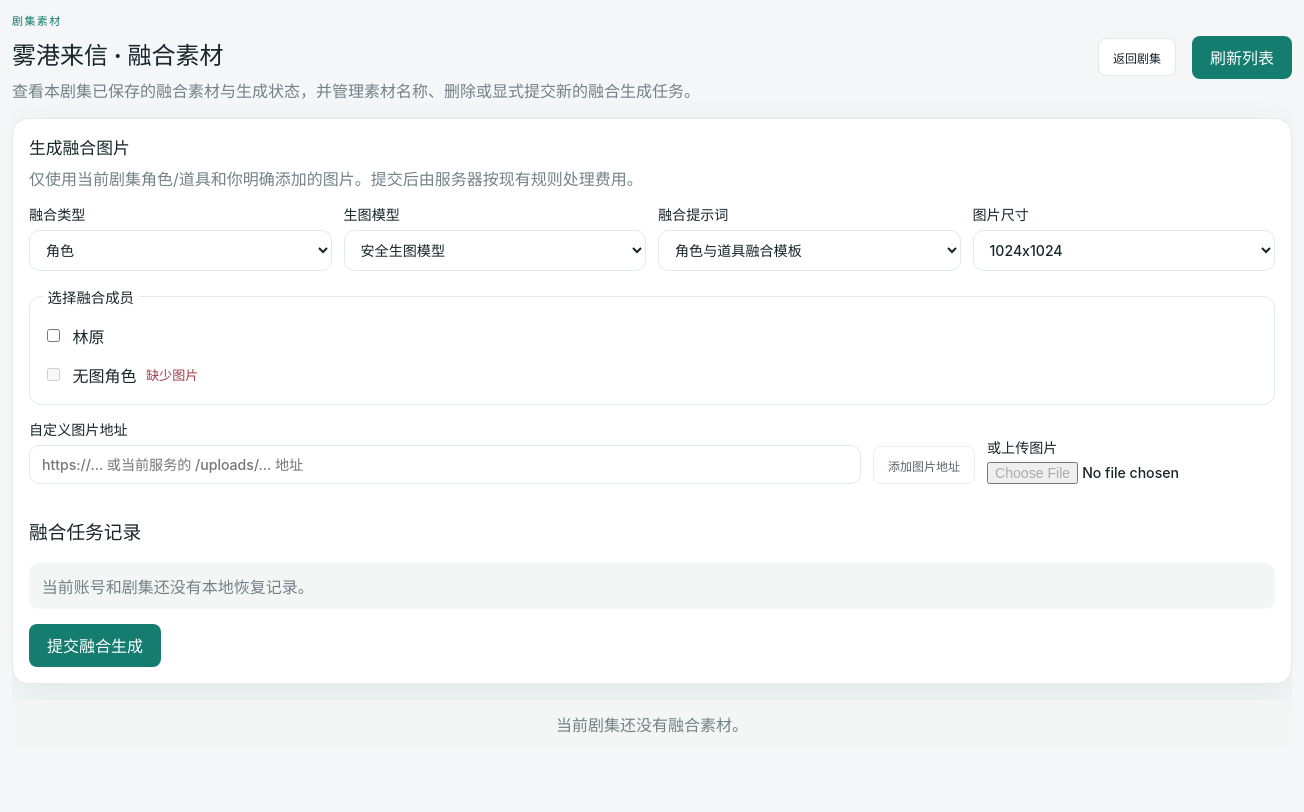
FusedAssetsPage › preserves the selected draft and does not submit when localStorage becomes unavailable after mounting
Click the checkbox labelled "林原". click: (53, 336)
box: [47,329,60,342]
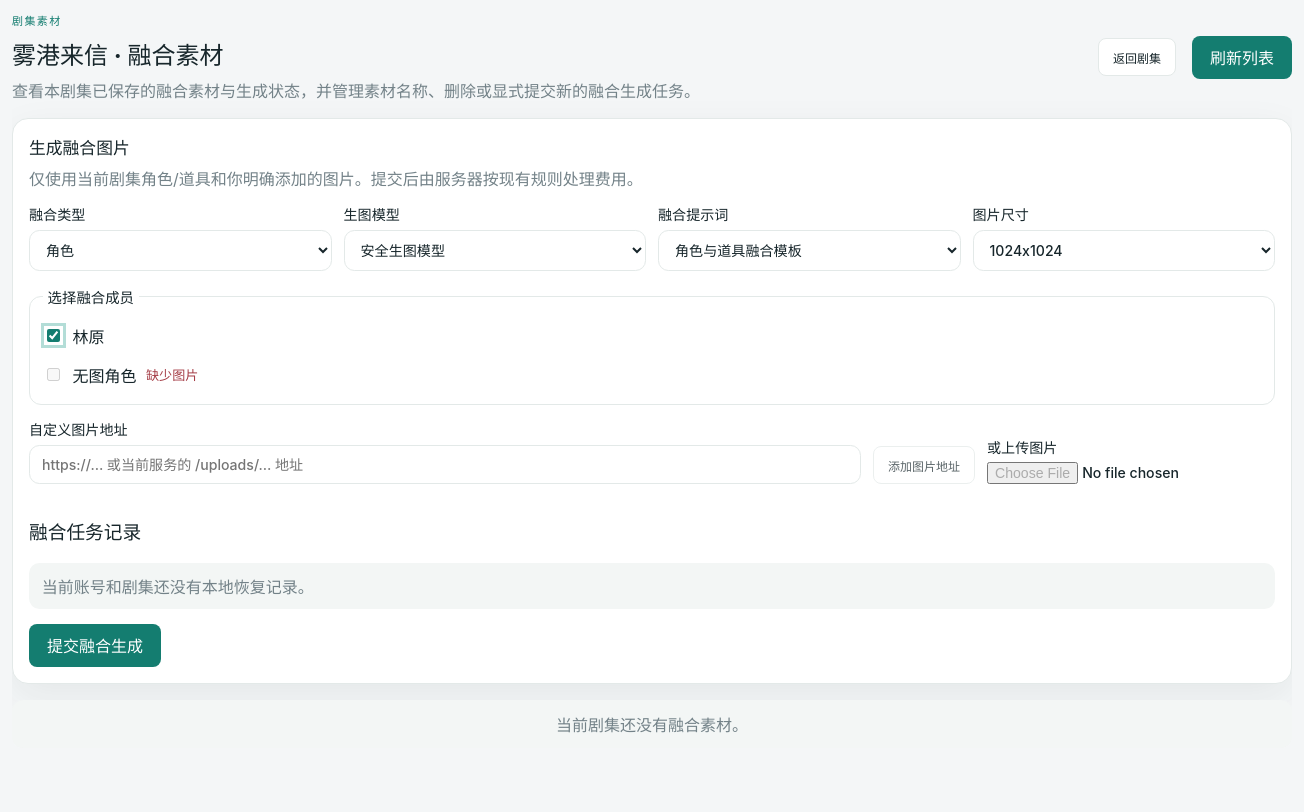
Click the button "提交融合生成". click: (95, 645)
box: [29,624,161,667]
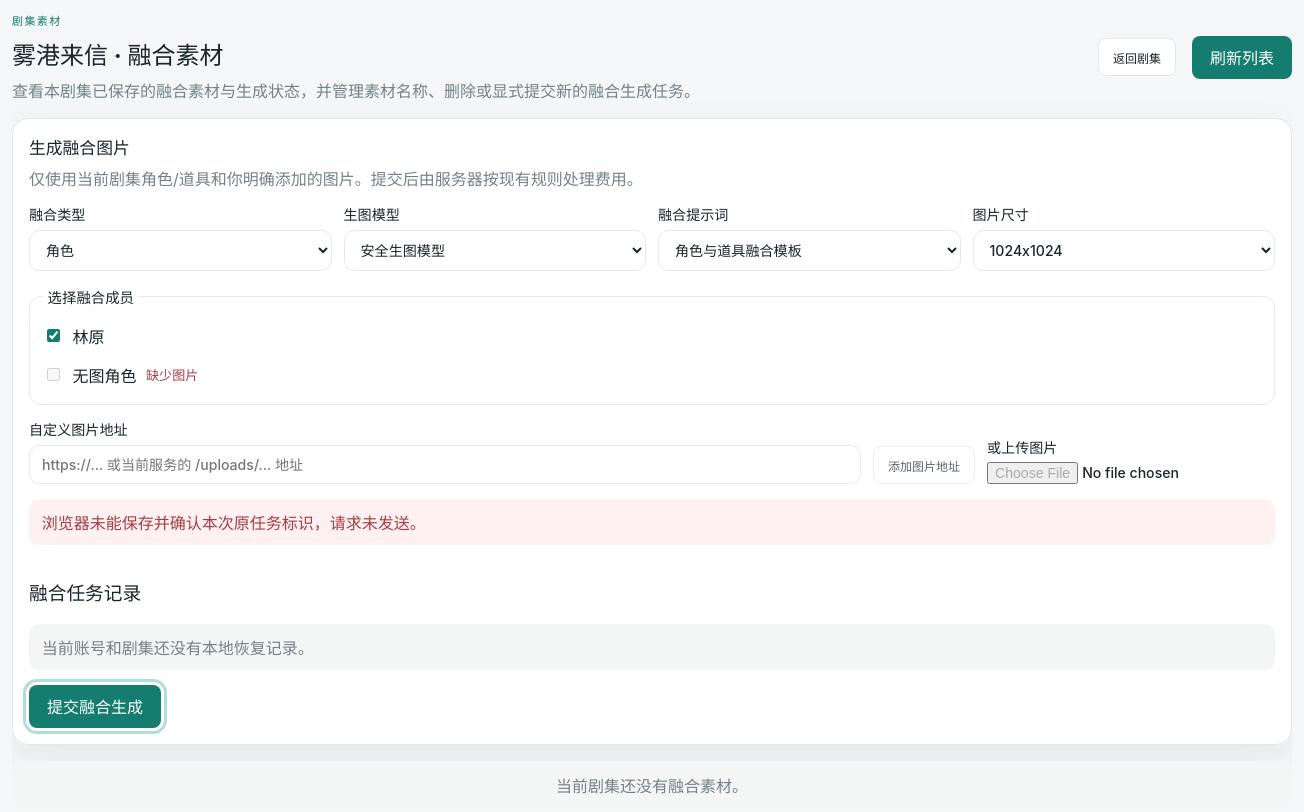
Result: the checkbox labelled "林原" is checked at [47,329,60,342]
Result: the message reads "浏览器未能保存并确认本次原任务标识，请求未发送。" at [42,513,426,533]
